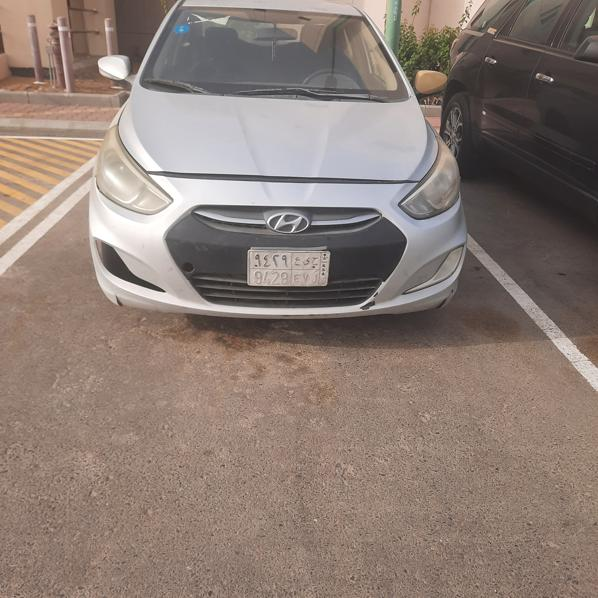numberplate: (249, 250, 329, 286)
